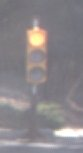Red: (22, 16, 54, 93)
